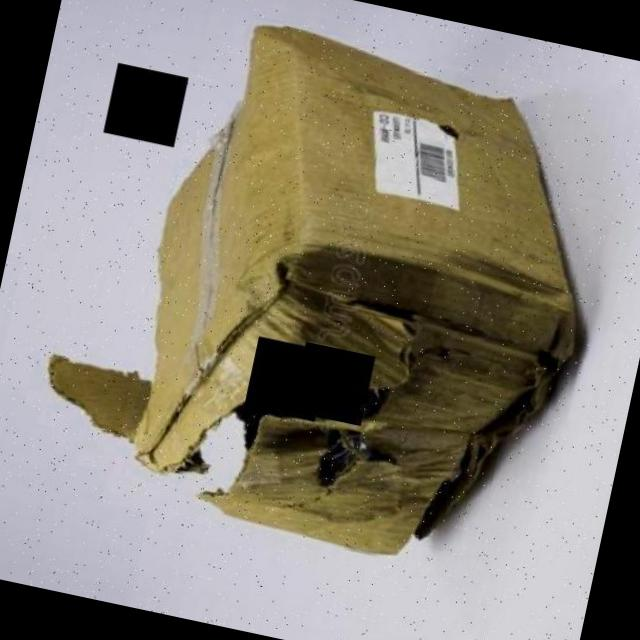box: (105, 9, 630, 592)
